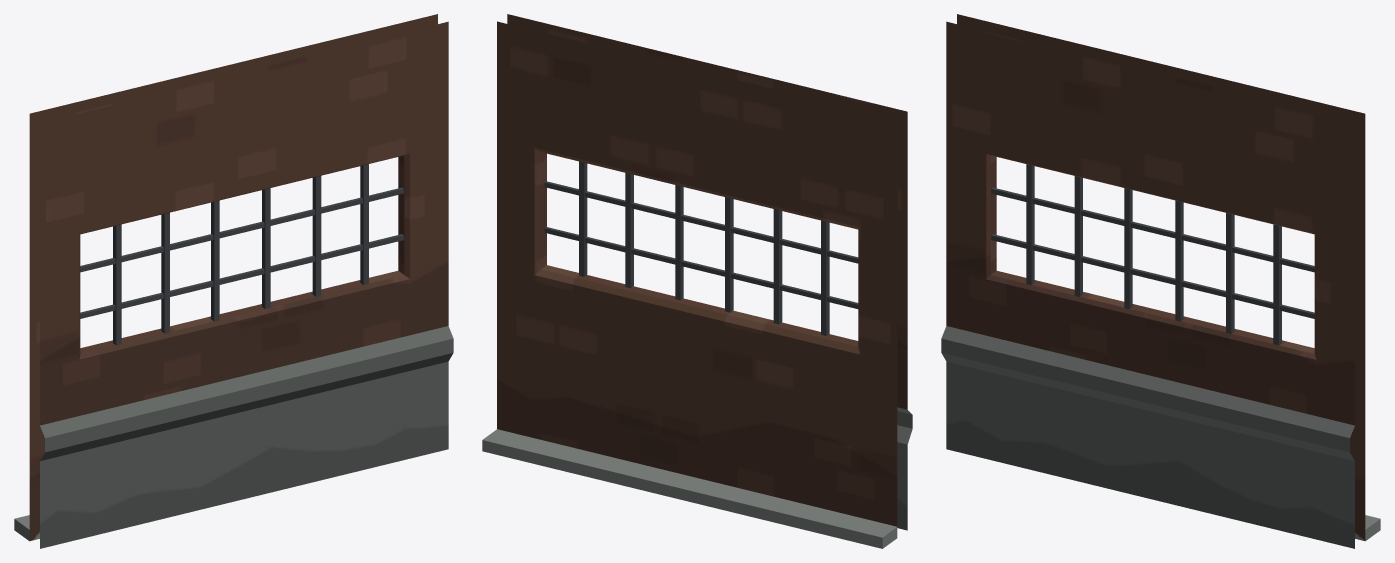
Rendered from SM_Bld_Wall_Brick_Window_01.obj.
3 views of the same model, side by side, from view 1: azimuth 30°, elevation 25°; view 2: azimuth 150°, elevation 25°; view 3: azimuth 330°, elevation 25° (orthographic). The views are drawn at different scales.
Parts seen in each view (by area): view 1: SM_Bld_Wall_Brick_Window_01_0; view 2: SM_Bld_Wall_Brick_Window_01_0; view 3: SM_Bld_Wall_Brick_Window_01_0.
Part boxes in pixels (x1,y1,x2,y2): SM_Bld_Wall_Brick_Window_01_0: [14, 14, 453, 548]; SM_Bld_Wall_Brick_Window_01_0: [482, 14, 912, 548]; SM_Bld_Wall_Brick_Window_01_0: [941, 14, 1380, 548].
Bounding box in the file's own units: 3 × 3 × 0.39.
Materials: 1 (1 with a texture image).
